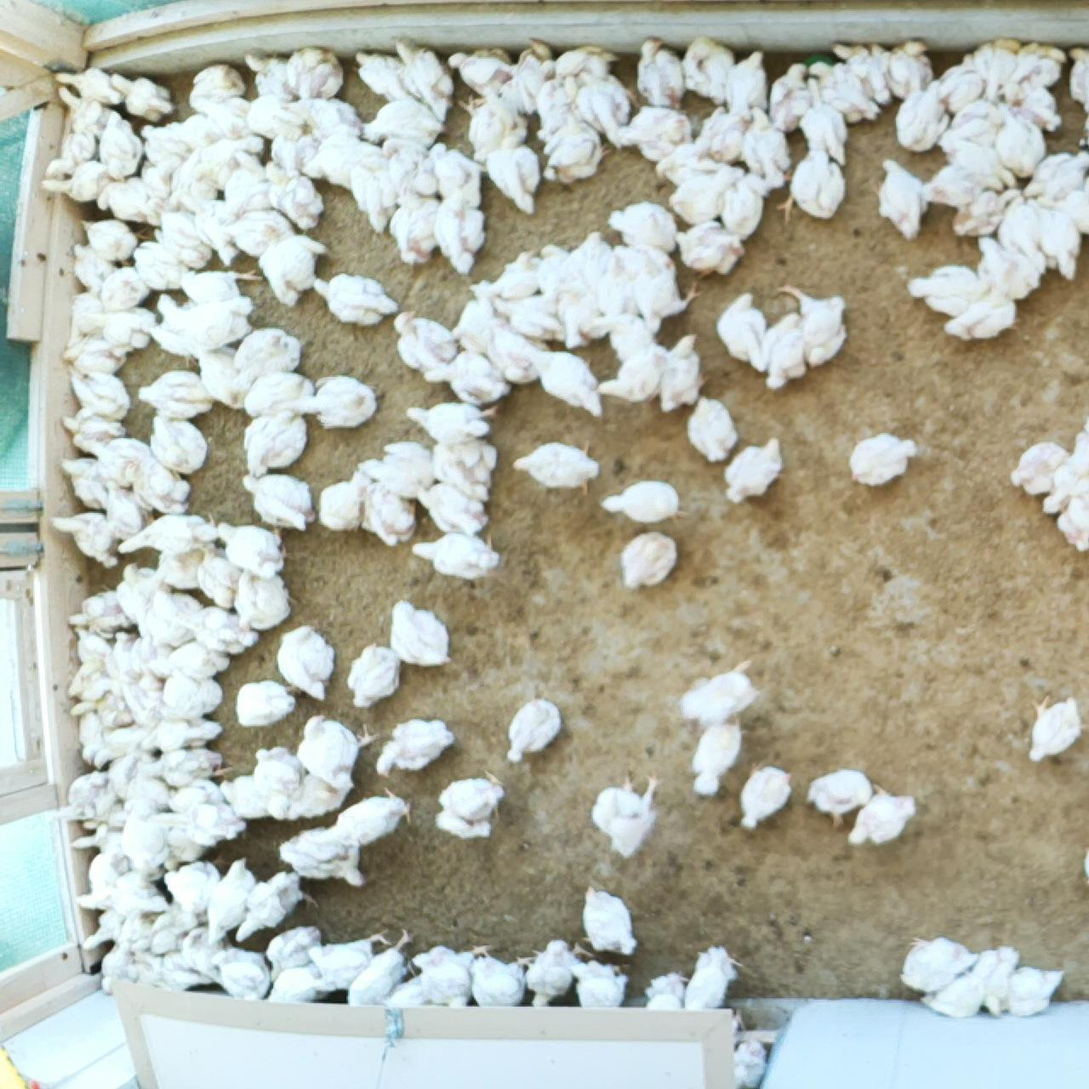chicken: (413, 346, 516, 407), (592, 776, 662, 858), (522, 344, 600, 417), (235, 409, 319, 475), (346, 931, 419, 1006), (553, 295, 649, 351), (235, 864, 307, 938), (280, 824, 376, 879), (298, 710, 368, 785), (61, 421, 147, 479), (316, 928, 395, 988), (259, 229, 322, 303), (688, 944, 752, 1016), (155, 295, 247, 345), (681, 664, 755, 726), (378, 716, 455, 775), (169, 788, 246, 847), (636, 247, 694, 325), (438, 774, 505, 840), (336, 793, 412, 851), (206, 862, 263, 938), (395, 310, 456, 381), (514, 442, 600, 492), (483, 320, 550, 384), (231, 326, 300, 388), (271, 140, 323, 221), (316, 274, 394, 328), (70, 812, 148, 866), (390, 598, 452, 665), (411, 534, 499, 581), (600, 341, 664, 405), (902, 938, 982, 989), (277, 626, 334, 697), (289, 767, 360, 824), (134, 742, 230, 784), (295, 376, 374, 427), (121, 513, 214, 556), (914, 262, 989, 315), (825, 36, 887, 100), (413, 946, 479, 1006), (174, 608, 258, 655), (358, 442, 435, 493), (714, 293, 768, 365), (944, 290, 1023, 339), (795, 83, 848, 156), (189, 339, 245, 408), (690, 721, 745, 791), (582, 884, 637, 954), (126, 453, 191, 512), (1027, 692, 1080, 764), (434, 440, 499, 498), (362, 97, 442, 144), (944, 128, 1011, 184), (811, 60, 871, 122), (132, 227, 192, 289), (392, 193, 442, 267), (413, 484, 487, 534), (434, 199, 489, 266), (131, 951, 214, 995), (726, 439, 783, 503), (875, 156, 922, 233), (60, 370, 133, 419), (195, 135, 266, 185), (632, 42, 684, 110), (506, 697, 561, 761), (847, 434, 916, 485), (492, 295, 562, 345), (790, 154, 843, 220), (136, 371, 212, 417), (976, 237, 1036, 295), (490, 144, 539, 214), (253, 750, 302, 820), (798, 94, 856, 153), (605, 201, 676, 249), (151, 410, 205, 473), (573, 233, 623, 301), (404, 402, 493, 440), (670, 167, 729, 224), (139, 716, 225, 755), (225, 209, 294, 257), (193, 196, 241, 265), (620, 531, 677, 589), (746, 106, 789, 182), (1035, 201, 1075, 282), (60, 773, 120, 827), (218, 527, 288, 573), (740, 765, 790, 829), (166, 636, 230, 686), (675, 225, 743, 272), (117, 560, 164, 628), (380, 141, 438, 196), (113, 858, 168, 916), (362, 482, 415, 542), (242, 367, 311, 413), (687, 396, 737, 459), (999, 968, 1069, 1013), (474, 948, 530, 1004), (602, 481, 678, 522), (83, 852, 134, 913), (354, 153, 392, 234), (662, 334, 700, 415), (386, 949, 440, 1006), (812, 768, 871, 820), (922, 963, 982, 1014), (954, 185, 1016, 234), (53, 513, 115, 562), (852, 795, 915, 843), (159, 676, 229, 719), (304, 140, 379, 180), (978, 947, 1023, 1013), (721, 171, 764, 240), (997, 110, 1041, 177), (767, 314, 805, 391), (619, 111, 684, 156), (145, 590, 198, 645), (527, 942, 574, 1004), (71, 591, 140, 633), (45, 162, 117, 202), (300, 94, 364, 139), (350, 645, 398, 705), (407, 46, 451, 111), (162, 213, 214, 268), (119, 807, 166, 867), (898, 81, 940, 148), (805, 297, 847, 363), (451, 284, 495, 347), (124, 914, 195, 953), (100, 108, 140, 177), (57, 454, 111, 505), (100, 180, 164, 223), (236, 573, 286, 628), (216, 773, 273, 821), (101, 478, 148, 536), (218, 157, 271, 208), (193, 550, 242, 605), (96, 720, 151, 769), (246, 95, 305, 140), (96, 310, 154, 355), (356, 48, 408, 98), (457, 111, 509, 161), (1013, 442, 1062, 495), (437, 149, 486, 202), (571, 960, 624, 1008), (167, 862, 215, 915), (71, 710, 112, 772), (451, 48, 514, 88), (237, 681, 294, 725), (187, 95, 248, 136), (539, 245, 584, 300), (215, 950, 270, 995), (271, 960, 334, 999), (268, 925, 320, 972), (98, 947, 151, 993), (975, 44, 1020, 98), (924, 160, 978, 205), (171, 160, 216, 214), (243, 54, 298, 98), (729, 51, 773, 106), (115, 772, 170, 816), (58, 88, 109, 135), (774, 64, 812, 127), (70, 664, 116, 716), (701, 108, 746, 161), (467, 89, 523, 131), (71, 245, 119, 294), (729, 1039, 777, 1088), (950, 94, 1000, 141), (322, 465, 359, 528), (185, 270, 249, 306), (64, 334, 123, 373), (81, 219, 134, 262), (290, 51, 339, 97), (117, 673, 162, 723), (183, 65, 247, 100), (153, 548, 209, 588), (1002, 207, 1045, 259), (513, 50, 555, 101), (647, 972, 689, 1023), (138, 636, 185, 681), (545, 133, 602, 170), (57, 69, 120, 102), (657, 133, 701, 180), (82, 912, 140, 947), (705, 1008, 750, 1053), (890, 42, 926, 98), (110, 76, 168, 110), (493, 254, 541, 294), (1014, 85, 1059, 127), (150, 120, 213, 150), (59, 125, 96, 176), (574, 88, 613, 136), (1030, 153, 1066, 205), (1063, 422, 1089, 493), (1015, 43, 1062, 82), (942, 57, 975, 112), (708, 42, 738, 102), (71, 630, 109, 677), (108, 632, 142, 683), (142, 147, 177, 194), (105, 270, 146, 309), (680, 35, 707, 91), (1060, 495, 1089, 547), (70, 296, 106, 334), (542, 107, 586, 137), (574, 54, 614, 86), (539, 78, 572, 113), (554, 45, 587, 75), (1045, 465, 1063, 517), (600, 78, 628, 109), (1058, 515, 1063, 535)
